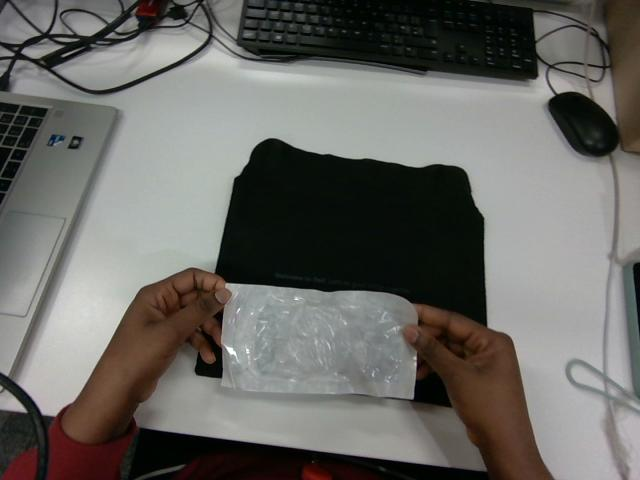gallipot: (222, 284, 417, 398)
